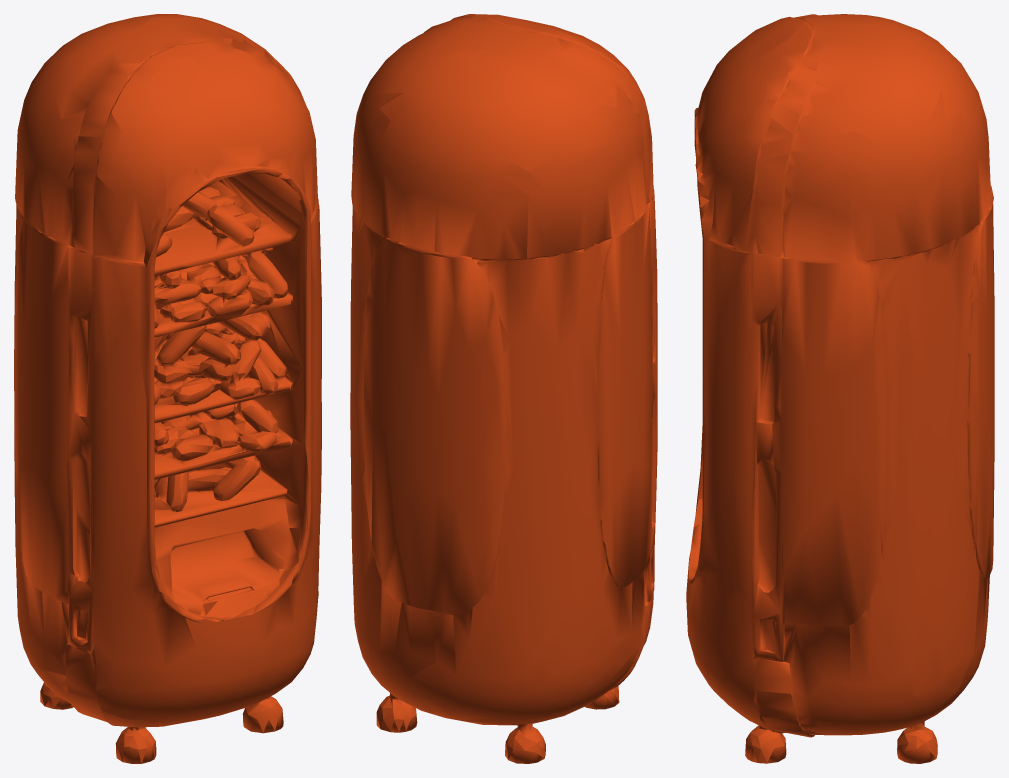
File: gen-y2k-vending-machine-1.glb
The picture shows the model from 3 angles, left to right: view 1: azimuth 30°, elevation 25°; view 2: azimuth 150°, elevation 25°; view 3: azimuth 270°, elevation 25°; orthographic projection.
Parts seen in each view (by area): view 1: gen-y2k-vending-machine-1_part1; view 2: gen-y2k-vending-machine-1_part1; view 3: gen-y2k-vending-machine-1_part1.
Boxes of the visible parts, bbox=[...] form: gen-y2k-vending-machine-1_part1: bbox=[14, 14, 321, 763]; gen-y2k-vending-machine-1_part1: bbox=[350, 14, 657, 763]; gen-y2k-vending-machine-1_part1: bbox=[686, 14, 994, 763].
Size of the model in its own units: 973 by 2400 by 974.
